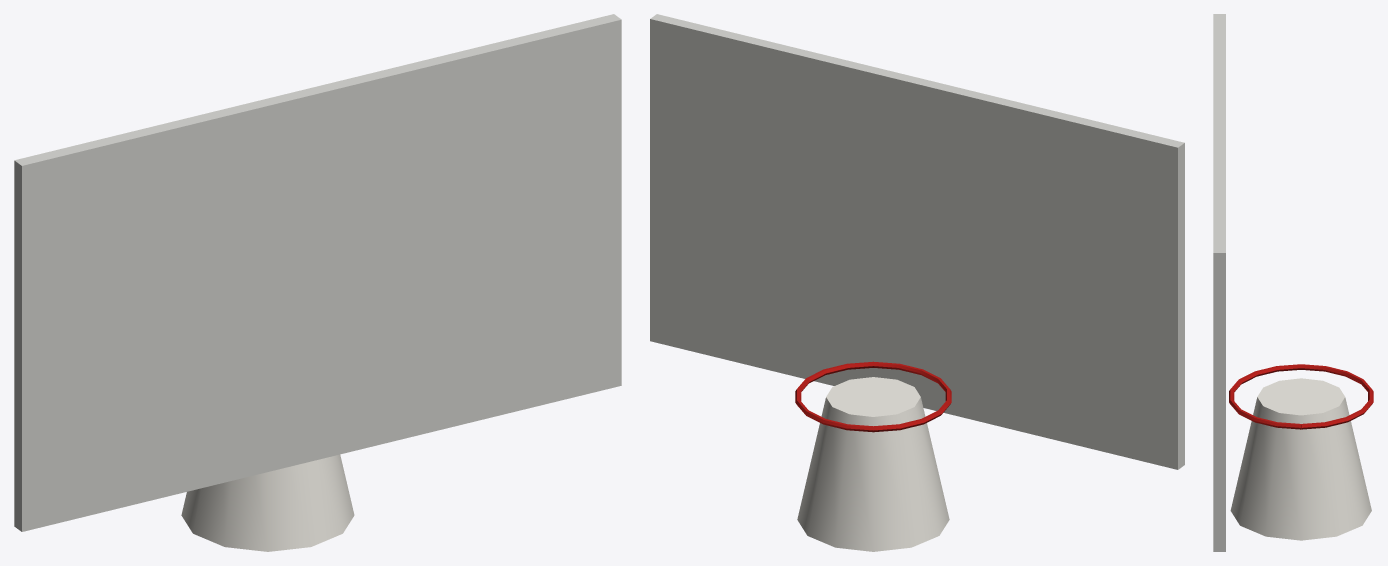
The model's file is school.gym.hoop_wall.glb.
3 views of the same model, side by side, from view 1: azimuth 30°, elevation 25°; view 2: azimuth 150°, elevation 25°; view 3: azimuth 270°, elevation 25° (orthographic). The views are drawn at different scales.
Visible parts, largest first — view 1: main__paint_white, main__fabric_white; view 2: main__paint_white, main__fabric_white, main__hazard_red; view 3: main__fabric_white, main__paint_white, main__hazard_red.
Boxes of the visible parts, x1,y1,x2,y2 form: main__paint_white: [14, 14, 621, 531]; main__fabric_white: [181, 454, 354, 551]; main__paint_white: [650, 14, 1184, 469]; main__fabric_white: [797, 377, 949, 551]; main__hazard_red: [795, 361, 951, 432]; main__fabric_white: [1230, 378, 1371, 540]; main__paint_white: [1213, 14, 1225, 551]; main__hazard_red: [1229, 364, 1373, 429].
Bounding box in the file's own units: 1.8 × 1.33 × 0.5104.
